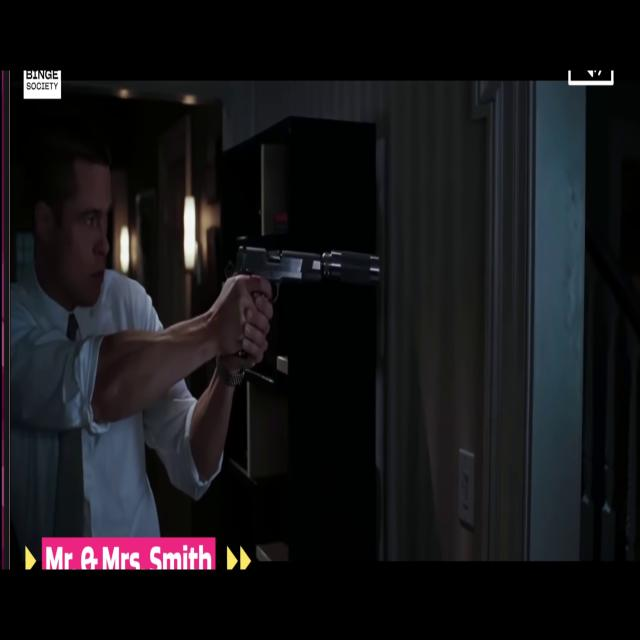weapons: (222, 222, 390, 362)
